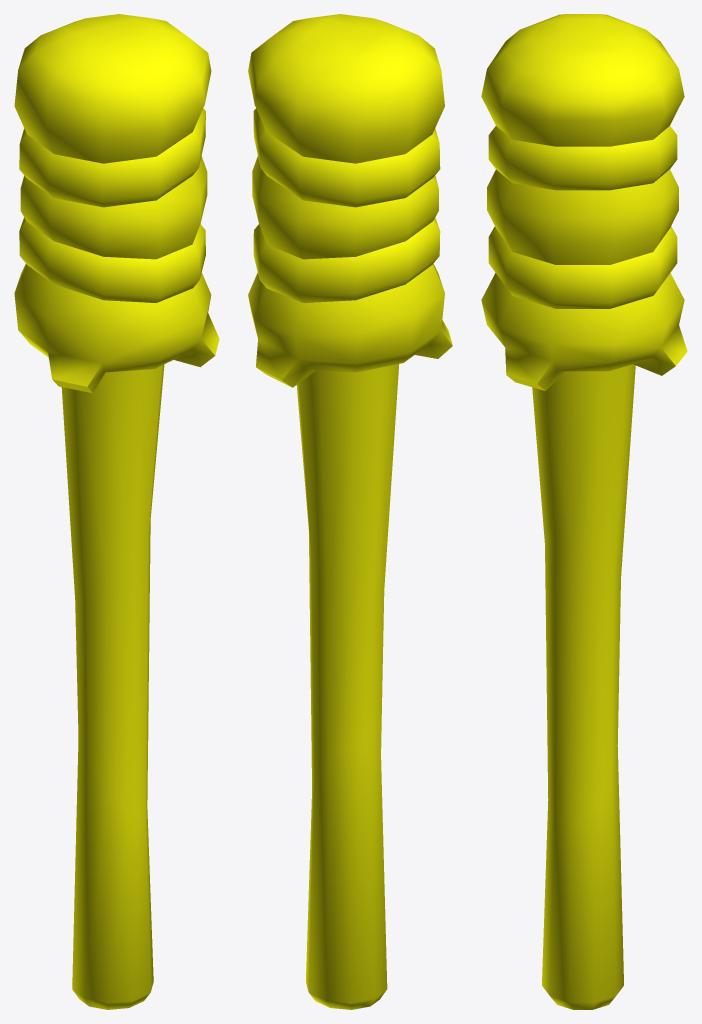
File: kaykit-torch-burnt.glb
The picture shows the model from 3 angles, left to right: view 1: azimuth 30°, elevation 25°; view 2: azimuth 150°, elevation 25°; view 3: azimuth 270°, elevation 25°; orthographic projection.
Parts seen in each view (by area): view 1: torch_burnt; view 2: torch_burnt; view 3: torch_burnt.
Boxes of the visible parts, <box> form: torch_burnt: <box>14,14,219,1009</box>; torch_burnt: <box>248,14,452,1009</box>; torch_burnt: <box>481,14,687,1009</box>.
Size of the model in its own units: 0.2109 by 1.17 by 0.2254.
